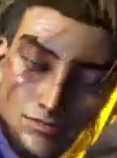kevin: (0, 6, 116, 154)
